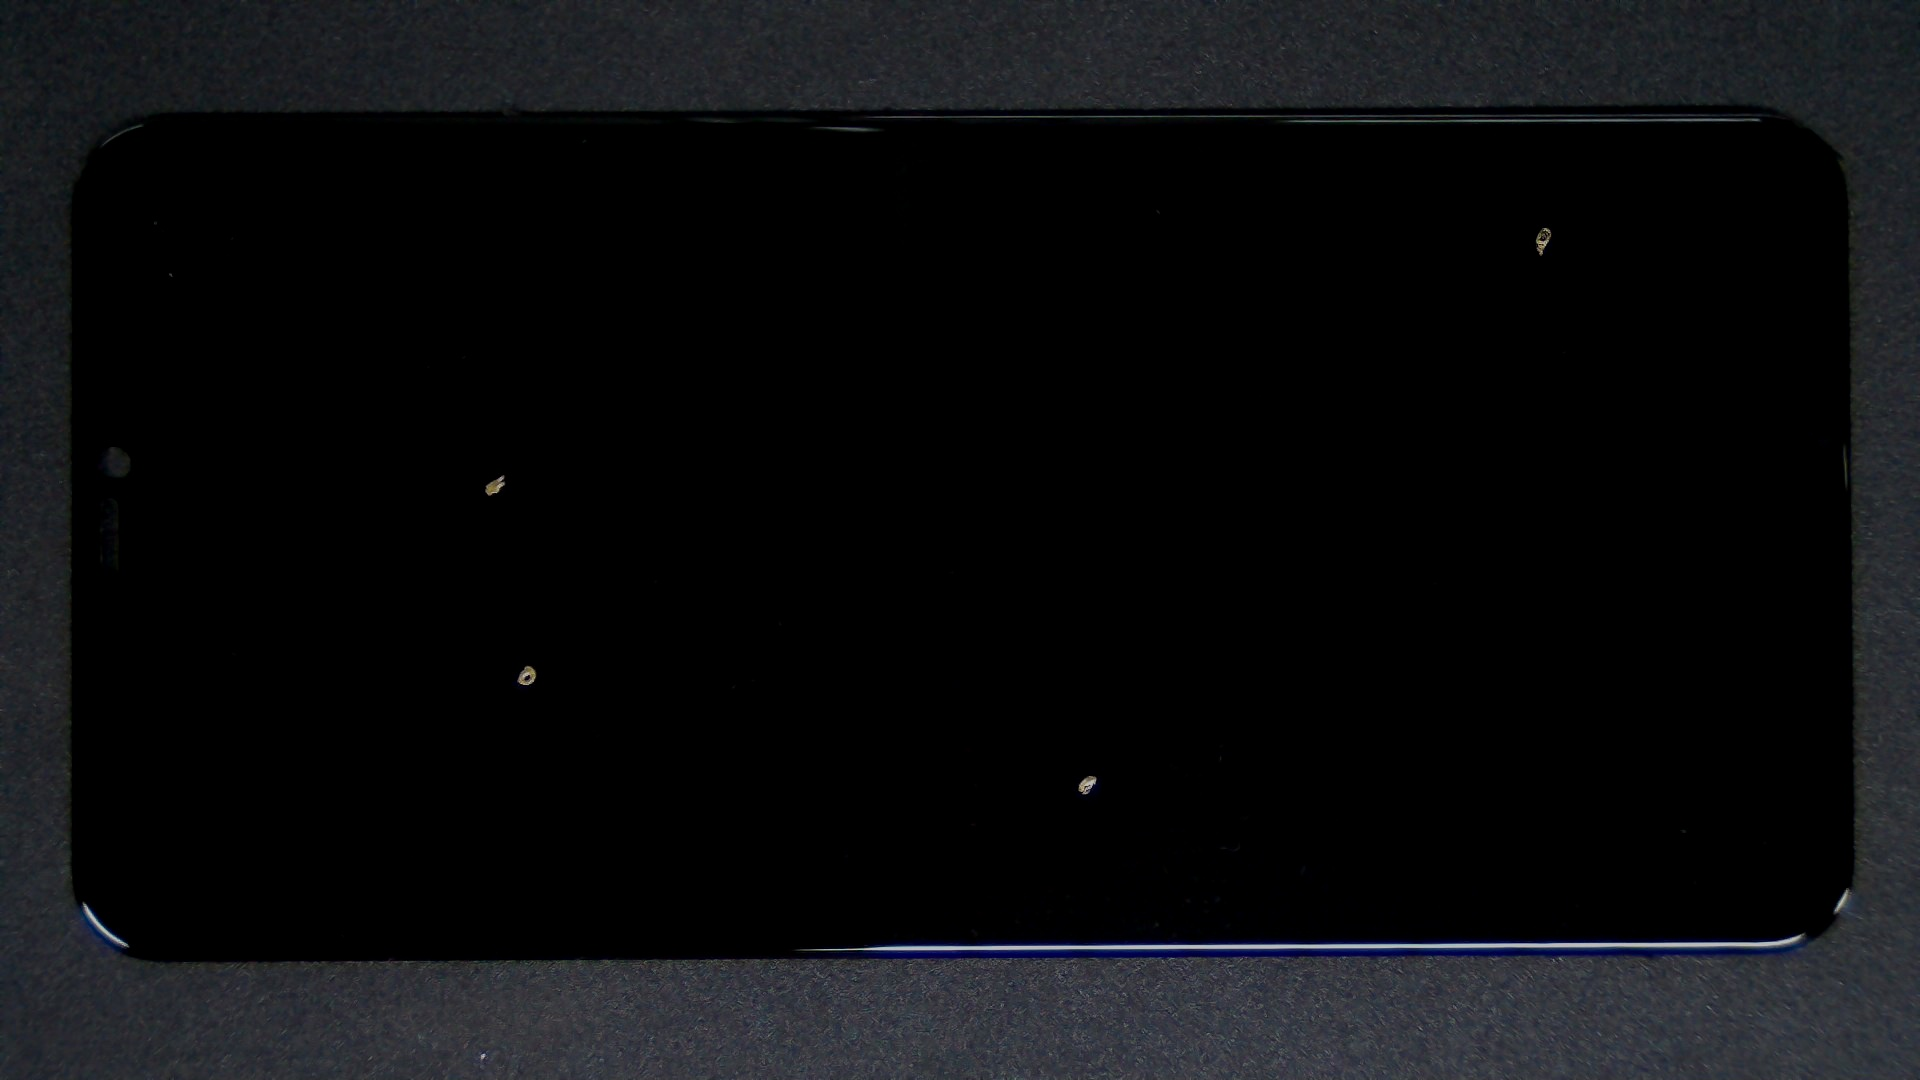oil: (547, 382, 1630, 1080), (265, 331, 793, 996), (770, 112, 1920, 339), (253, 235, 756, 708)
